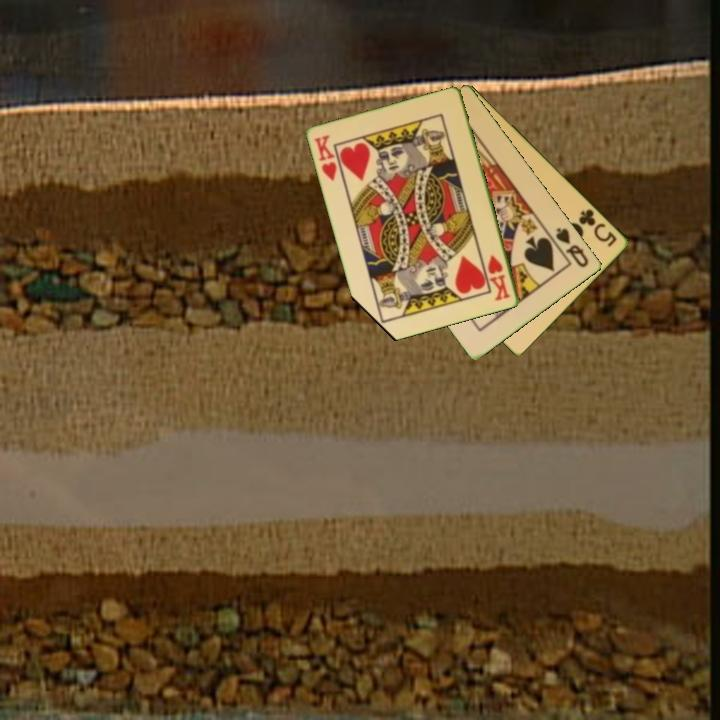5c: (575, 205, 620, 250)
Kh: (311, 132, 340, 184), (485, 251, 513, 304)
Qs: (553, 224, 592, 271)
